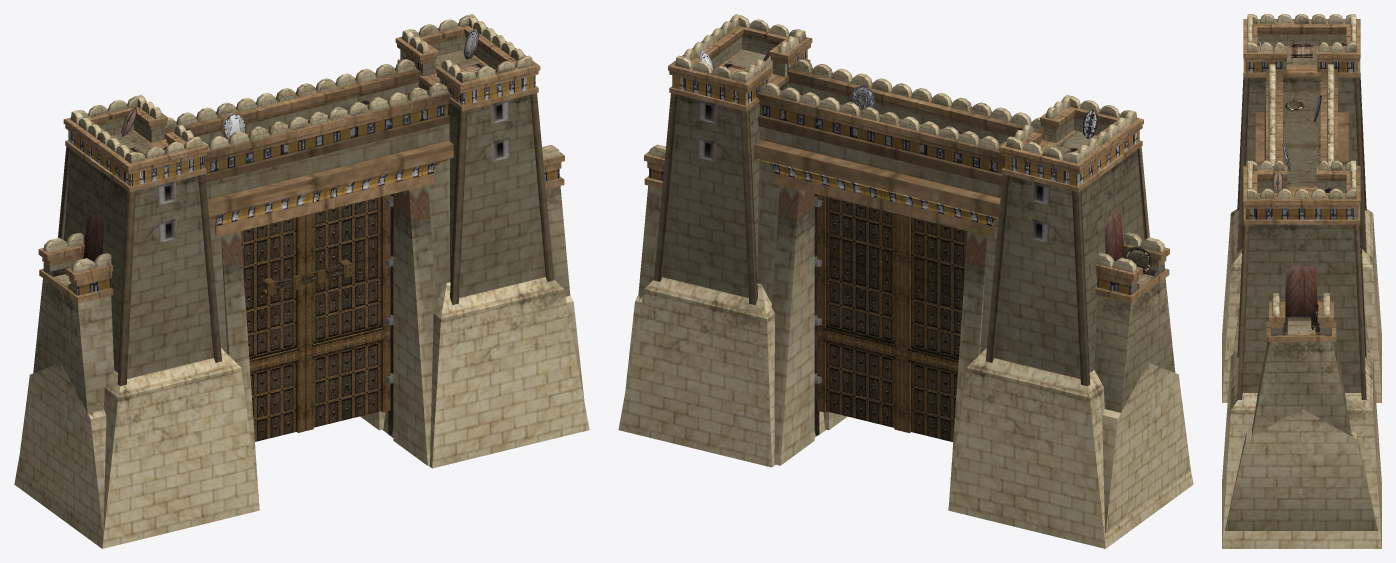
The model's file is ptol_gate.glb.
The picture shows the model from 3 angles, left to right: view 1: azimuth 30°, elevation 25°; view 2: azimuth 150°, elevation 25°; view 3: azimuth 270°, elevation 25°; orthographic projection. The views are drawn at different scales.
Parts seen in each view (by area): view 1: ptol_gate_part1, ptol_gate_part0; view 2: ptol_gate_part1, ptol_gate_part0; view 3: ptol_gate_part1.
Part boxes in pixels (<box>): ptol_gate_part1: <box>14,14,589,548</box>; ptol_gate_part0: <box>240,194,390,441</box>; ptol_gate_part1: <box>618,14,1193,548</box>; ptol_gate_part0: <box>817,194,967,441</box>; ptol_gate_part1: <box>1222,14,1381,548</box>.
Bounding box in the file's own units: 3.8 × 2.76 × 1.18.
2 materials, 2 textured.
